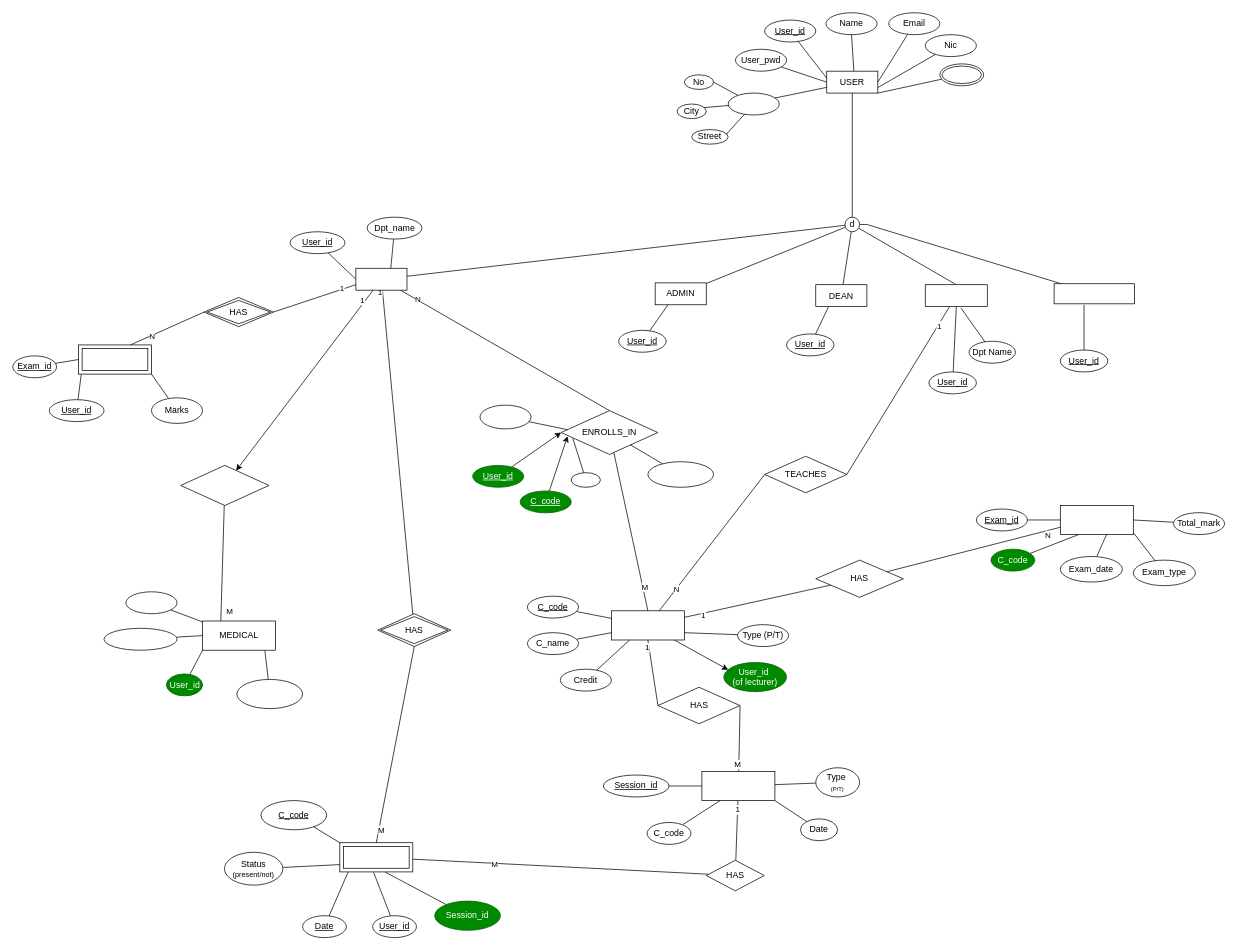
Image size: 1237x950. Some labels were removed from this diagram. The shapes that lost their labels are listed below. From the top down, each one's centre as x and y in pixels, then its label:
At point 961,74: "Phone".
At point 753,103: "Address".
At point 381,279: "STUDENT".
At point 956,295: "LECTURER".
At point 1093,293: "TECH_OFFICER".
At point 114,359: "MARK".
At point 505,416: "Status".
At point 224,485: "SUBMITS".
At point 585,479: "Sem".
At point 680,474: "Academic_yr".
At point 1096,520: "EXAM".
At point 151,602: "Medical_id".
At point 140,639: "Date_submitted".
At point 647,625: "COURSE".
At point 269,694: "Status (Approved or not)".
At point 738,786: "SESSION".
At point 376,857: "ATTENDANCE".
